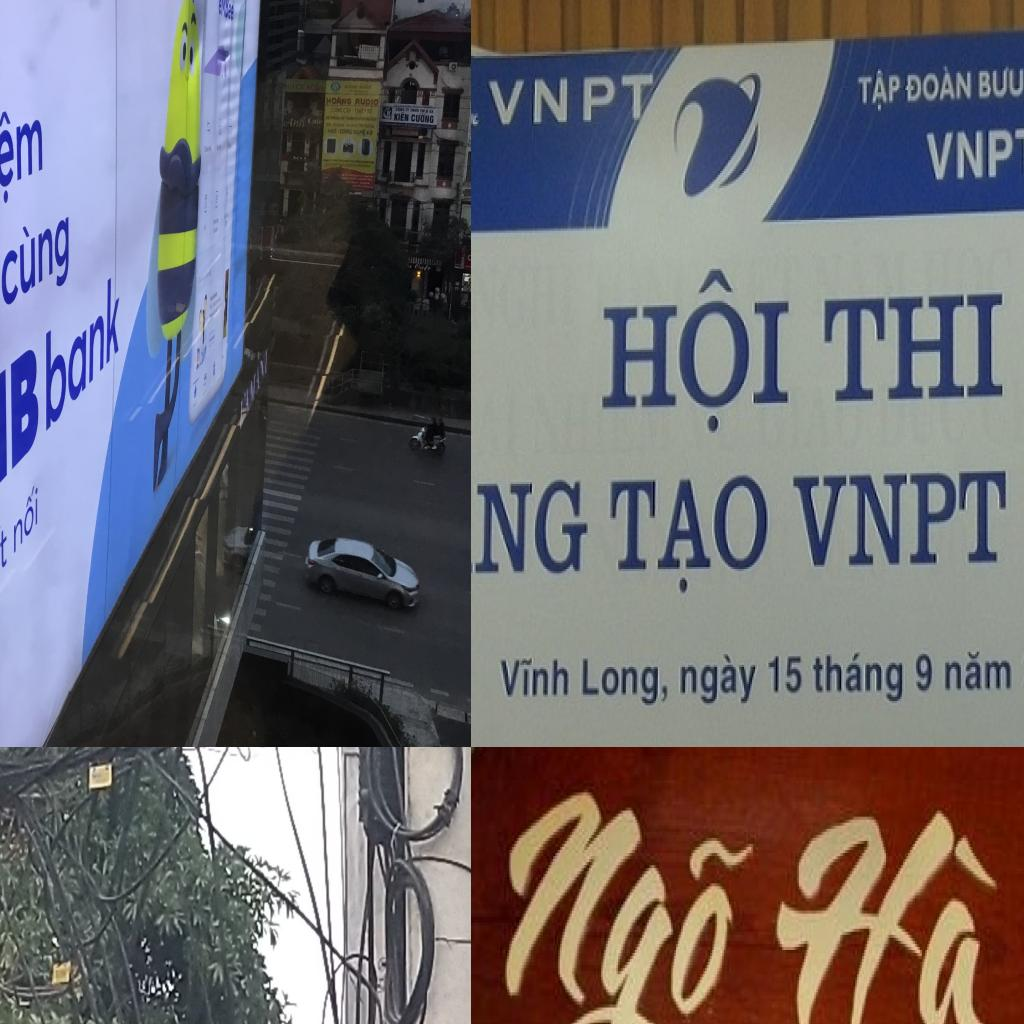text: (484, 789, 766, 1024), (759, 783, 1015, 1024), (599, 262, 793, 444), (788, 466, 1024, 571), (607, 469, 774, 601), (822, 288, 1007, 407), (471, 450, 592, 580), (43, 264, 122, 438), (485, 71, 658, 130), (0, 203, 71, 321), (0, 339, 42, 527), (0, 93, 46, 254), (922, 124, 1024, 185), (811, 650, 907, 707), (582, 656, 676, 712), (677, 652, 763, 710), (498, 654, 574, 703), (943, 648, 1015, 694), (904, 62, 974, 107), (11, 476, 41, 558), (856, 66, 904, 116), (977, 64, 1024, 104), (766, 654, 806, 699), (913, 650, 935, 697), (0, 516, 11, 605), (217, 0, 235, 22), (283, 115, 308, 129), (325, 94, 353, 106), (410, 111, 434, 124), (471, 105, 480, 135), (354, 98, 379, 106), (306, 82, 324, 92), (394, 111, 410, 122), (413, 264, 433, 272), (308, 116, 324, 126), (352, 128, 366, 137), (354, 106, 367, 115), (285, 82, 295, 92), (295, 81, 305, 91), (331, 106, 343, 114), (344, 83, 358, 89), (340, 128, 352, 135), (366, 106, 374, 116), (343, 106, 352, 114), (410, 107, 420, 114), (327, 128, 337, 135), (344, 115, 355, 121), (395, 106, 405, 112), (330, 115, 340, 121), (366, 130, 374, 136), (419, 108, 426, 114), (339, 115, 345, 121), (387, 109, 391, 117), (429, 108, 434, 114), (405, 108, 410, 112)
